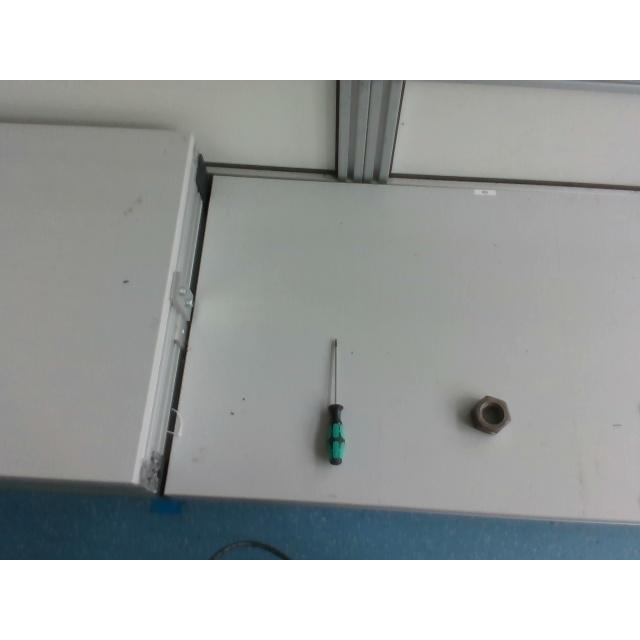M30: (471, 393, 513, 435)
Screwdriver: (324, 338, 348, 466)
